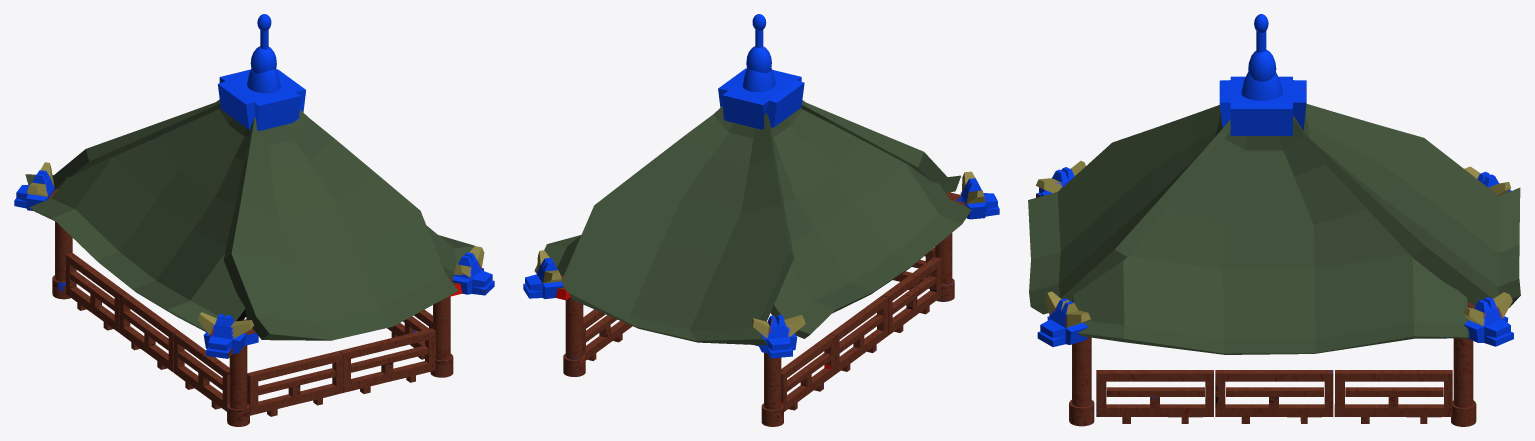
File: BaseBlue.fbx
3 renders of one model, left to right at view 1: azimuth 30°, elevation 25°; view 2: azimuth 150°, elevation 25°; view 3: azimuth 270°, elevation 25°, orthographic. The views are drawn at different scales.
Visible parts, largest first — view 1: polySurface1; view 2: polySurface1; view 3: polySurface1.
Boxes of the visible parts, bbox=[...] form: polySurface1: bbox=[14, 14, 494, 426]; polySurface1: bbox=[523, 14, 999, 426]; polySurface1: bbox=[1028, 14, 1520, 426].
Size of the model in its own units: 53.75 by 55.08 by 69.31.
1 material, 1 textured.
